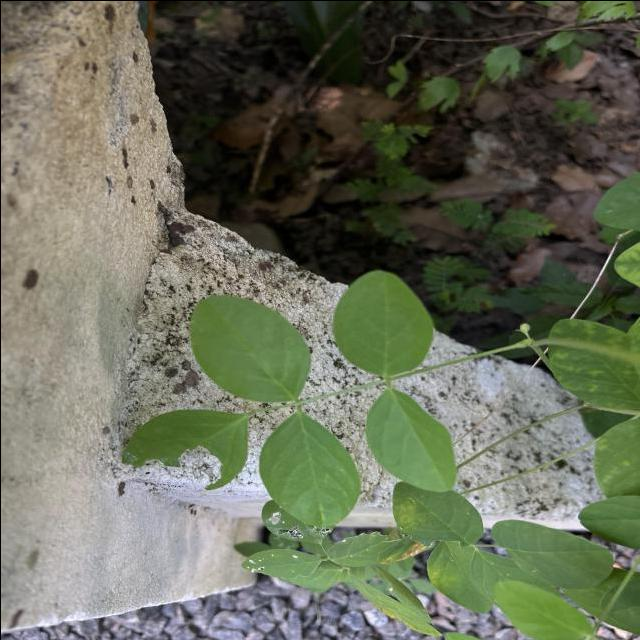Clitoria ternatea: (187, 293, 312, 403), (256, 409, 361, 529), (330, 268, 434, 378), (362, 386, 458, 493)
